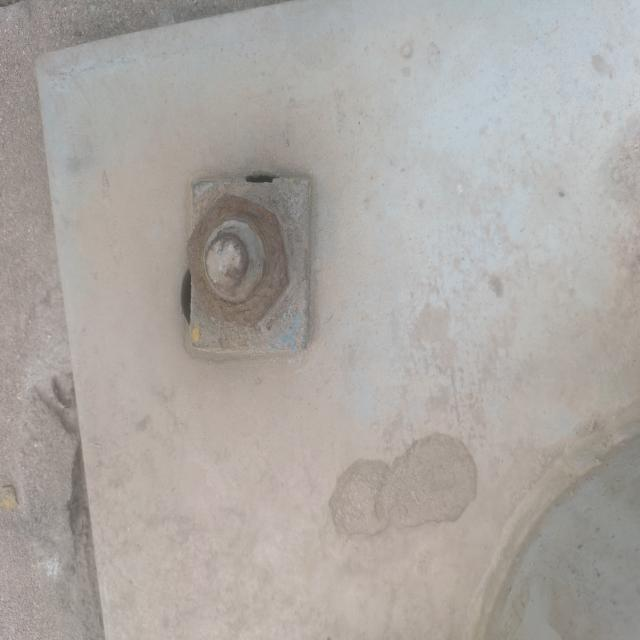bolt nut: (184, 189, 290, 330)
